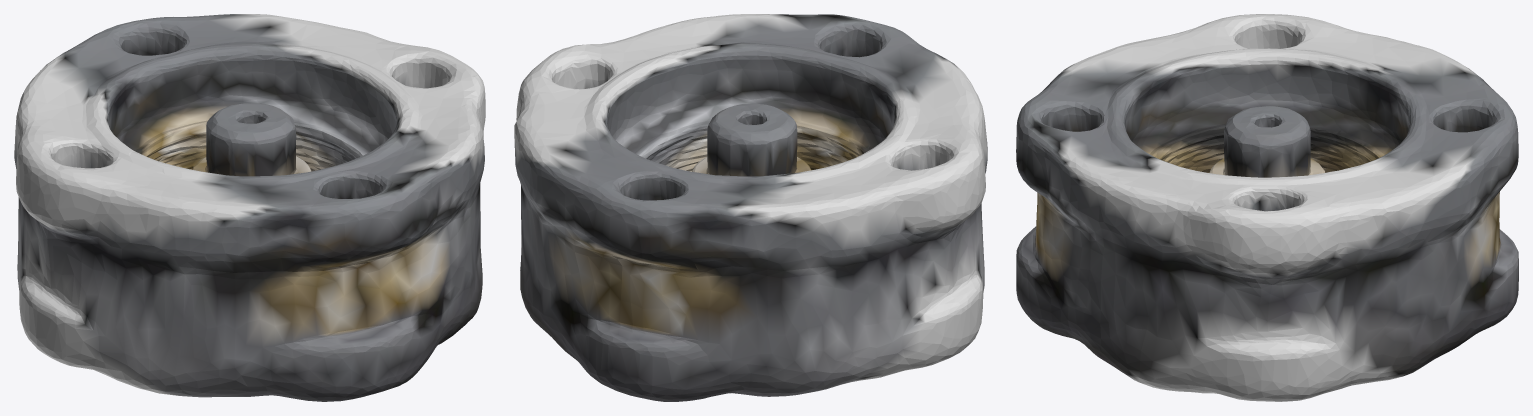
Rendered from diaphragm.glb.
3 views of the same model, side by side, from view 1: azimuth 30°, elevation 25°; view 2: azimuth 150°, elevation 25°; view 3: azimuth 270°, elevation 25° (orthographic).
Visible parts, largest first — view 1: tmpq3kslpm7.ply; view 2: tmpq3kslpm7.ply; view 3: tmpq3kslpm7.ply.
Boxes of the visible parts, <box> form: tmpq3kslpm7.ply: <box>14,14,485,401</box>; tmpq3kslpm7.ply: <box>514,14,987,401</box>; tmpq3kslpm7.ply: <box>1016,14,1518,401</box>.
Size of the model in its own units: 1 by 0.5113 by 1.
